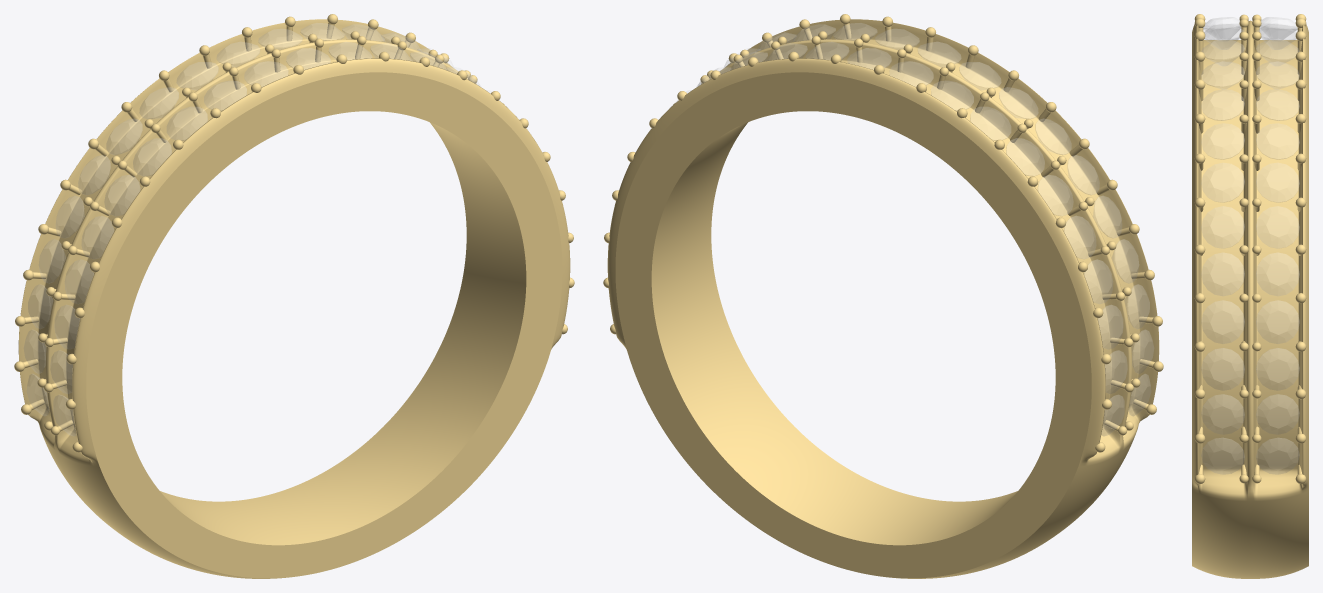
Rendered from ring_549Y.glb.
3 renders of one model, left to right at view 1: azimuth 30°, elevation 25°; view 2: azimuth 150°, elevation 25°; view 3: azimuth 270°, elevation 25°, orthographic. The views are drawn at different scales.
Parts seen in each view (by area): view 1: Band_and_Setting, Diamonds; view 2: Band_and_Setting, Diamonds; view 3: Band_and_Setting, Diamonds.
Boxes of the visible parts, x1,y1,x2,y2 form: Band_and_Setting: [14, 14, 574, 578]; Diamonds: [24, 23, 505, 435]; Band_and_Setting: [603, 14, 1163, 578]; Diamonds: [672, 23, 1153, 435]; Band_and_Setting: [1192, 14, 1308, 578]; Diamonds: [1201, 17, 1299, 474].
Size of the model in its own units: 0.0216 by 0.0211 by 0.0044.
